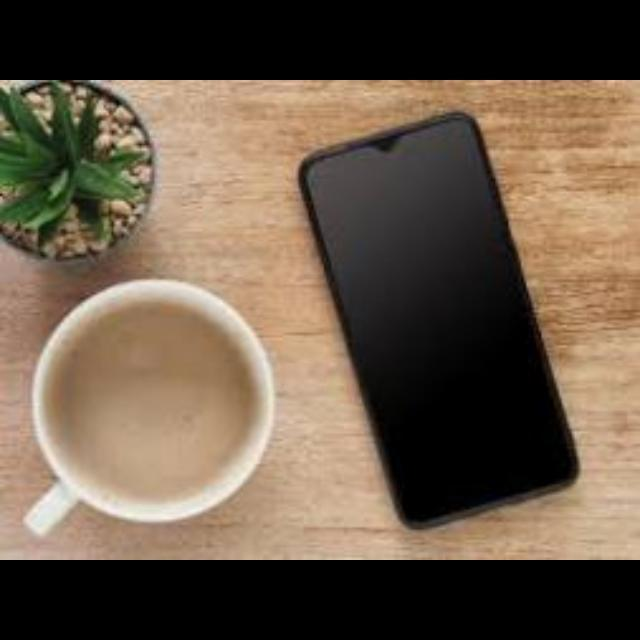phone: (284, 112, 586, 528)
